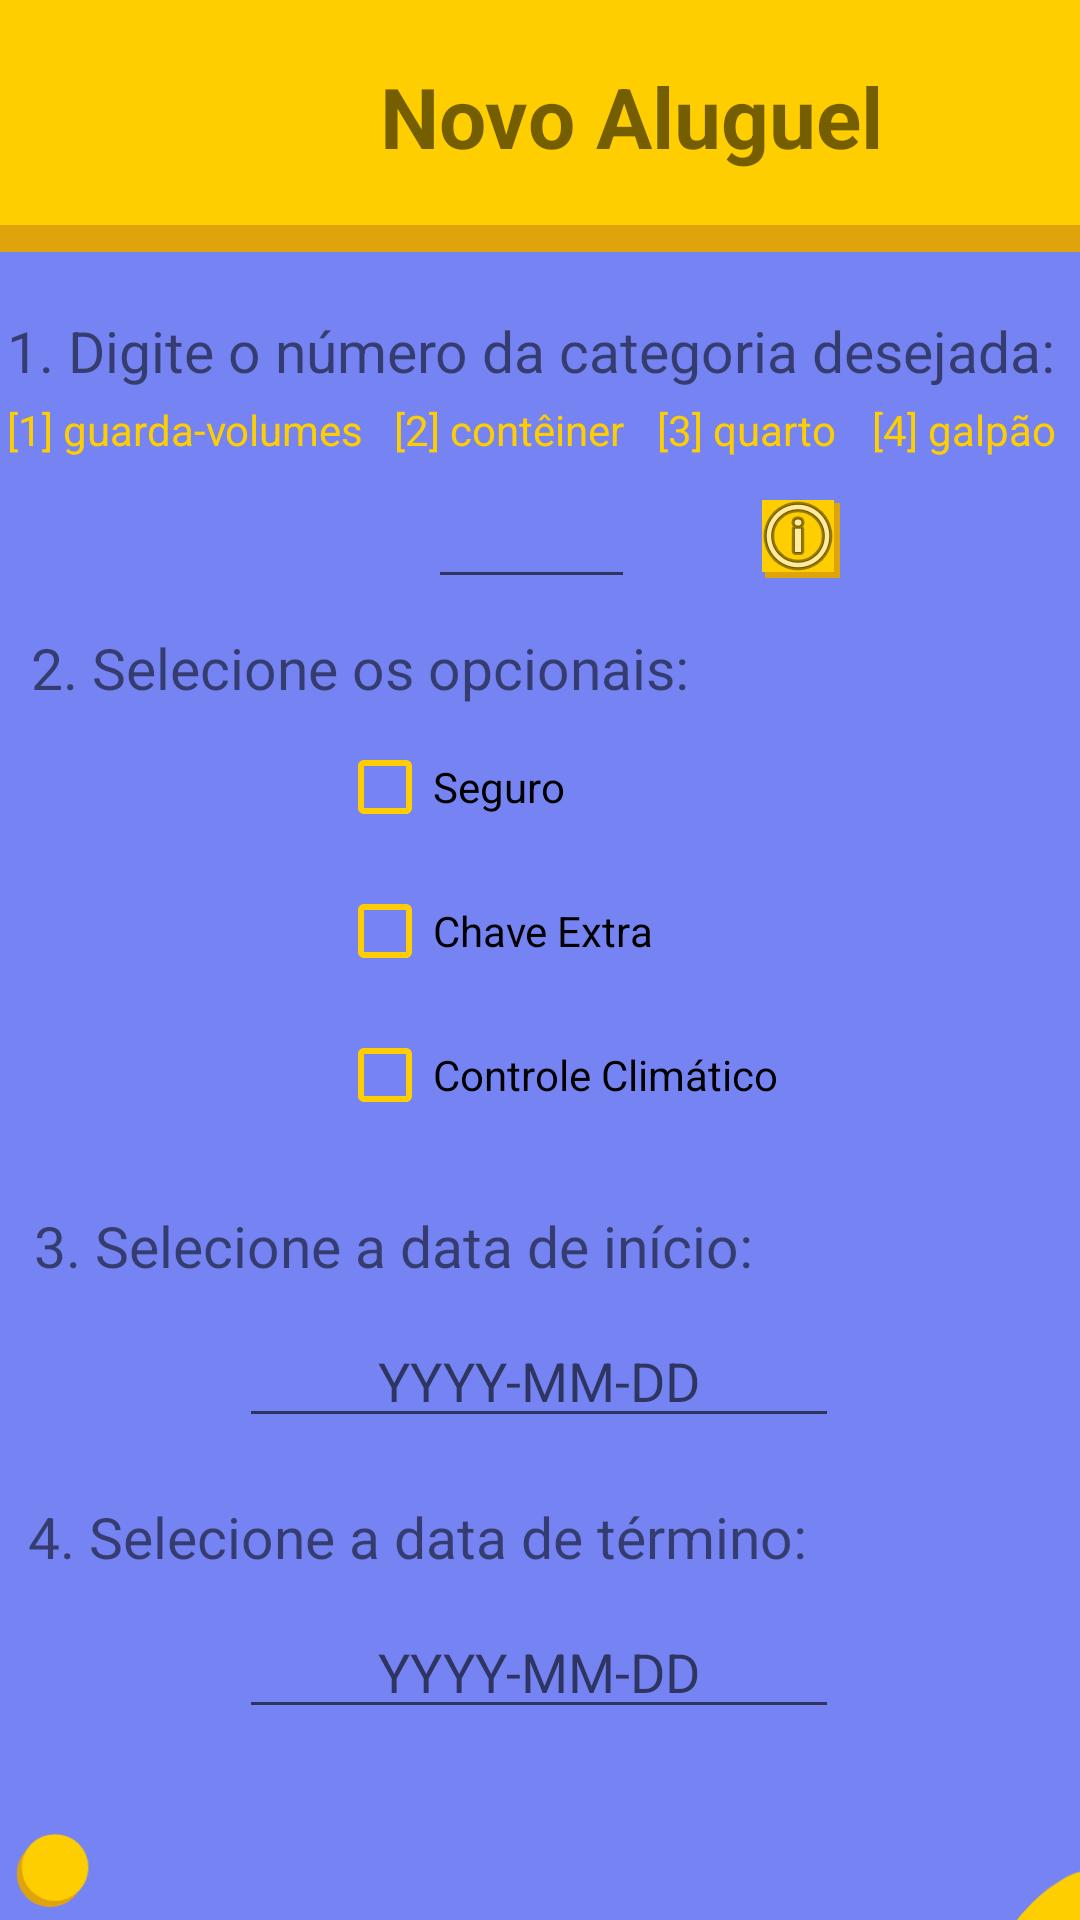

Where to tap for icons on this 1080 x 1920 app screen, as (x,y):
info details: (798,536)
